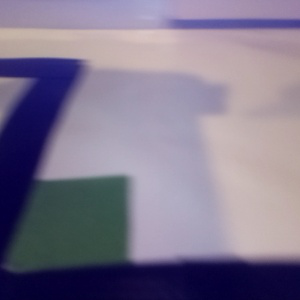top_right: (1, 175, 127, 300)
